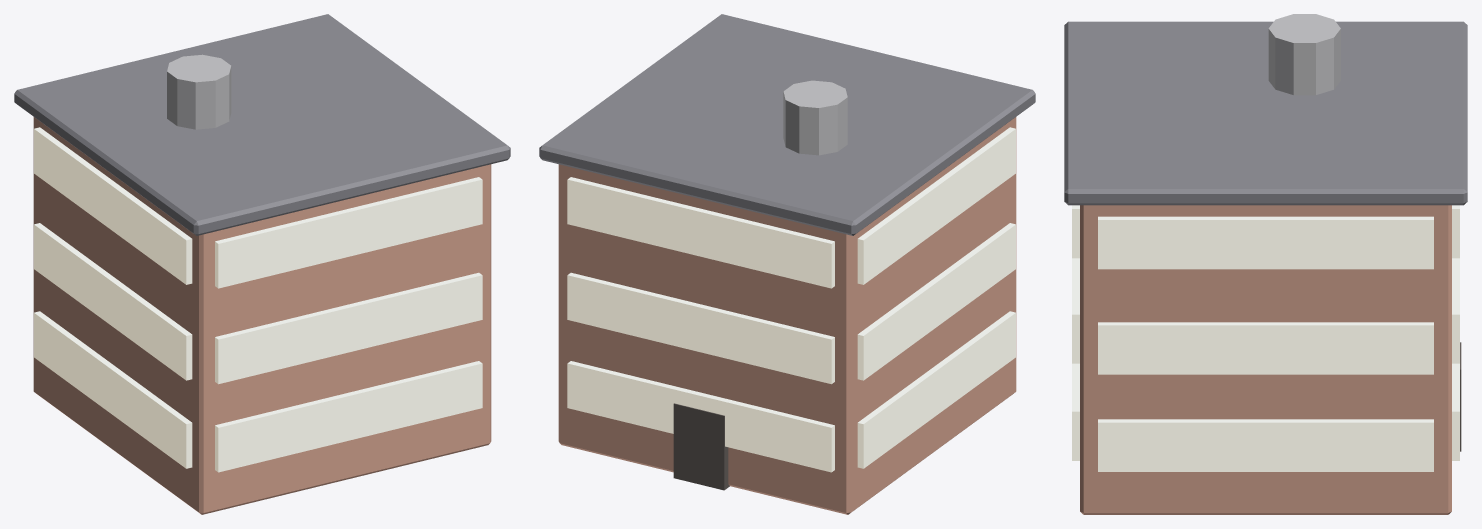
File: bld_2_1.glb
3 views of the same model, side by side, from view 1: azimuth 30°, elevation 25°; view 2: azimuth 150°, elevation 25°; view 3: azimuth 270°, elevation 25° (orthographic). The views are drawn at different scales.
Parts seen in each view (by area): view 1: w, rf, bz2.002, bz2.001, bz2, bx2.001, bx2, bx2.002, tank; view 2: w, rf, bz1.002, bz1.001, bz1, bx2.001, bx2, bx2.002, tank, door; view 3: rf, w, bx1.002, bx1, bx1.001, tank, bz1.001, bz2.001, bz1, bz2.
Boxes of the visible parts, bbox=[...] form: w: bbox=[33, 117, 491, 514]; rf: bbox=[14, 14, 510, 235]; bz2.002: bbox=[215, 177, 482, 288]; bz2.001: bbox=[215, 272, 482, 384]; bz2: bbox=[215, 361, 482, 472]; bx2.001: bbox=[34, 223, 192, 380]; bx2: bbox=[34, 311, 192, 468]; bx2.002: bbox=[34, 127, 192, 284]; tank: bbox=[167, 54, 231, 129]; w: bbox=[558, 117, 1016, 514]; rf: bbox=[539, 14, 1035, 235]; bz1.002: bbox=[567, 177, 834, 288]; bz1.001: bbox=[567, 272, 834, 384]; bz1: bbox=[567, 361, 834, 472]; bx2.001: bbox=[857, 223, 1015, 380]; bx2: bbox=[857, 311, 1015, 468]; bx2.002: bbox=[857, 127, 1015, 284]; tank: bbox=[783, 80, 847, 155]; door: bbox=[673, 403, 729, 490]; rf: bbox=[1064, 21, 1467, 205]; w: bbox=[1080, 205, 1451, 514]; bx1.002: bbox=[1098, 216, 1433, 269]; bx1: bbox=[1098, 419, 1433, 471]; bx1.001: bbox=[1098, 322, 1433, 374]; tank: bbox=[1268, 14, 1340, 95]; bz1.001: bbox=[1452, 258, 1459, 363]; bz2.001: bbox=[1072, 258, 1079, 363]; bz1: bbox=[1452, 363, 1459, 460]; bz2: bbox=[1072, 363, 1079, 460].
Size of the model in its own units: 3.12 by 3.28 by 3.12.
